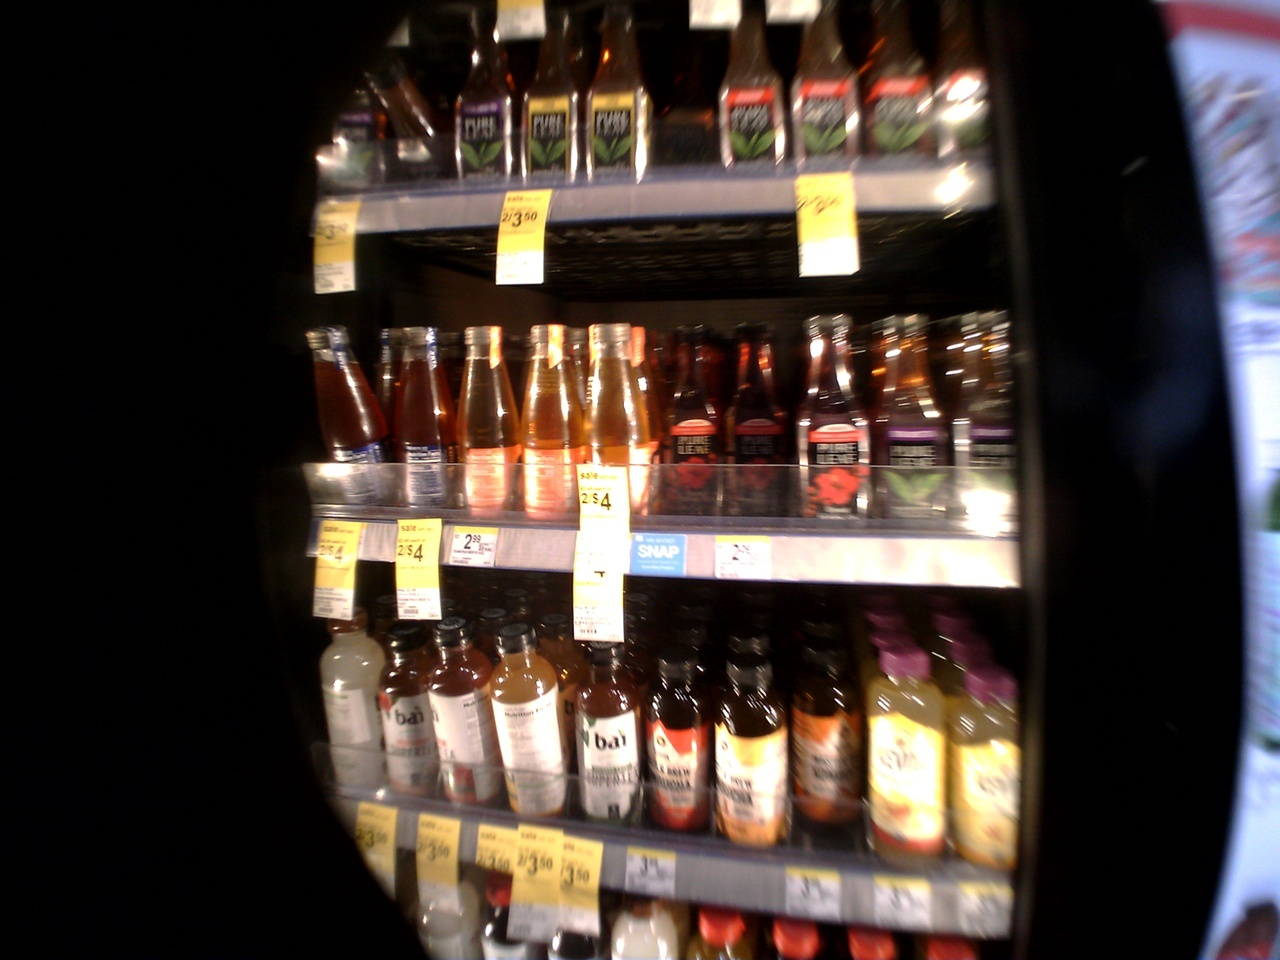shelf: (274, 577, 1027, 895), (284, 288, 1019, 584), (239, 5, 1014, 220)
